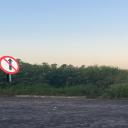NoSeguir: (0, 54, 23, 84)
